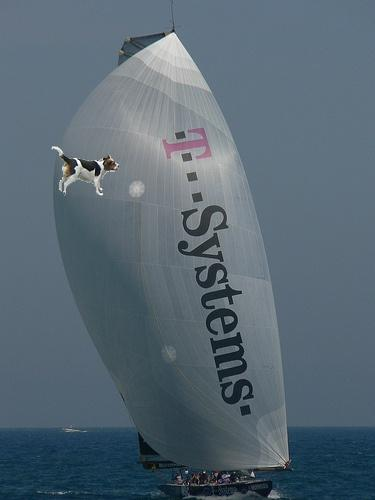tampered: (52, 147, 119, 196)
